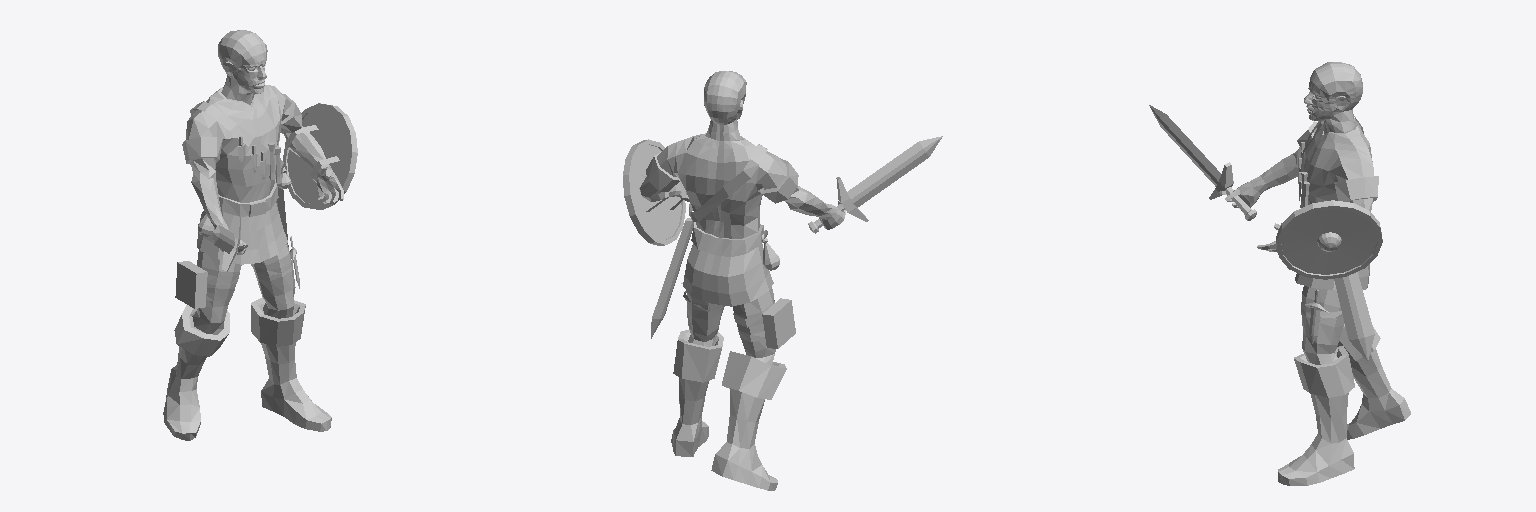
File: char_anim_000266.obj
The picture shows the model from 3 angles: view 1: azimuth 30°, elevation 25°; view 2: azimuth 150°, elevation 25°; view 3: azimuth 270°, elevation 25°; orthographic projection.
Visible parts, largest first — view 1: Body.001, Shield, Funda.001_LegBag, Bandolera, Sword; view 2: Body.001, Shield, Sword, Funda.001_LegBag, Sheat, Bandolera; view 3: Body.001, Shield, Sheat, Sword, LegKnife.
Part boxes in pixels (bbox=[...]): Body.001: bbox=[163, 30, 343, 440]; Shield: bbox=[283, 103, 357, 209]; Funda.001_LegBag: bbox=[175, 261, 239, 308]; Bandolera: bbox=[190, 101, 283, 172]; Sword: bbox=[212, 216, 245, 271]; Body.001: bbox=[639, 71, 845, 490]; Shield: bbox=[623, 139, 685, 245]; Sword: bbox=[808, 136, 942, 233]; Funda.001_LegBag: bbox=[733, 298, 795, 348]; Sheat: bbox=[651, 218, 693, 338]; Bandolera: bbox=[689, 144, 767, 221]; Body.001: bbox=[1219, 62, 1410, 485]; Shield: bbox=[1276, 200, 1382, 279]; Sheat: bbox=[1334, 272, 1374, 360]; Sword: bbox=[1149, 105, 1256, 220]; LegKnife: bbox=[1301, 290, 1342, 343].
Size of the model in its own units: 1.35 by 2.36 by 1.41.